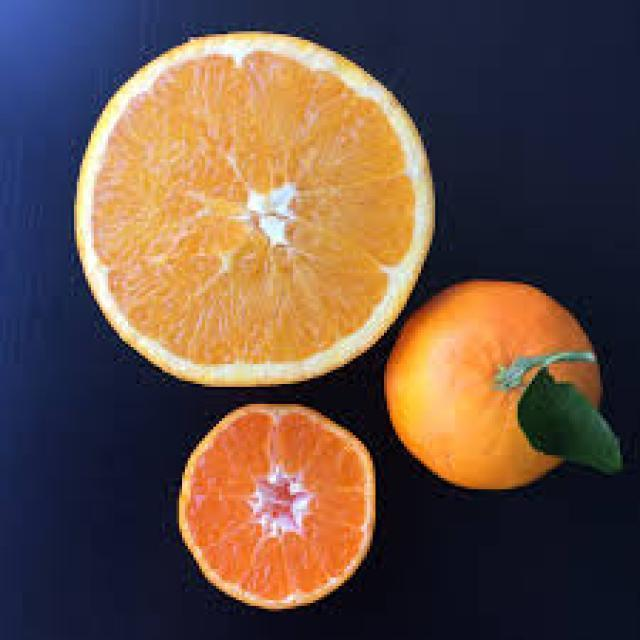Orange: (71, 28, 435, 387), (381, 276, 620, 490), (177, 401, 376, 609)
